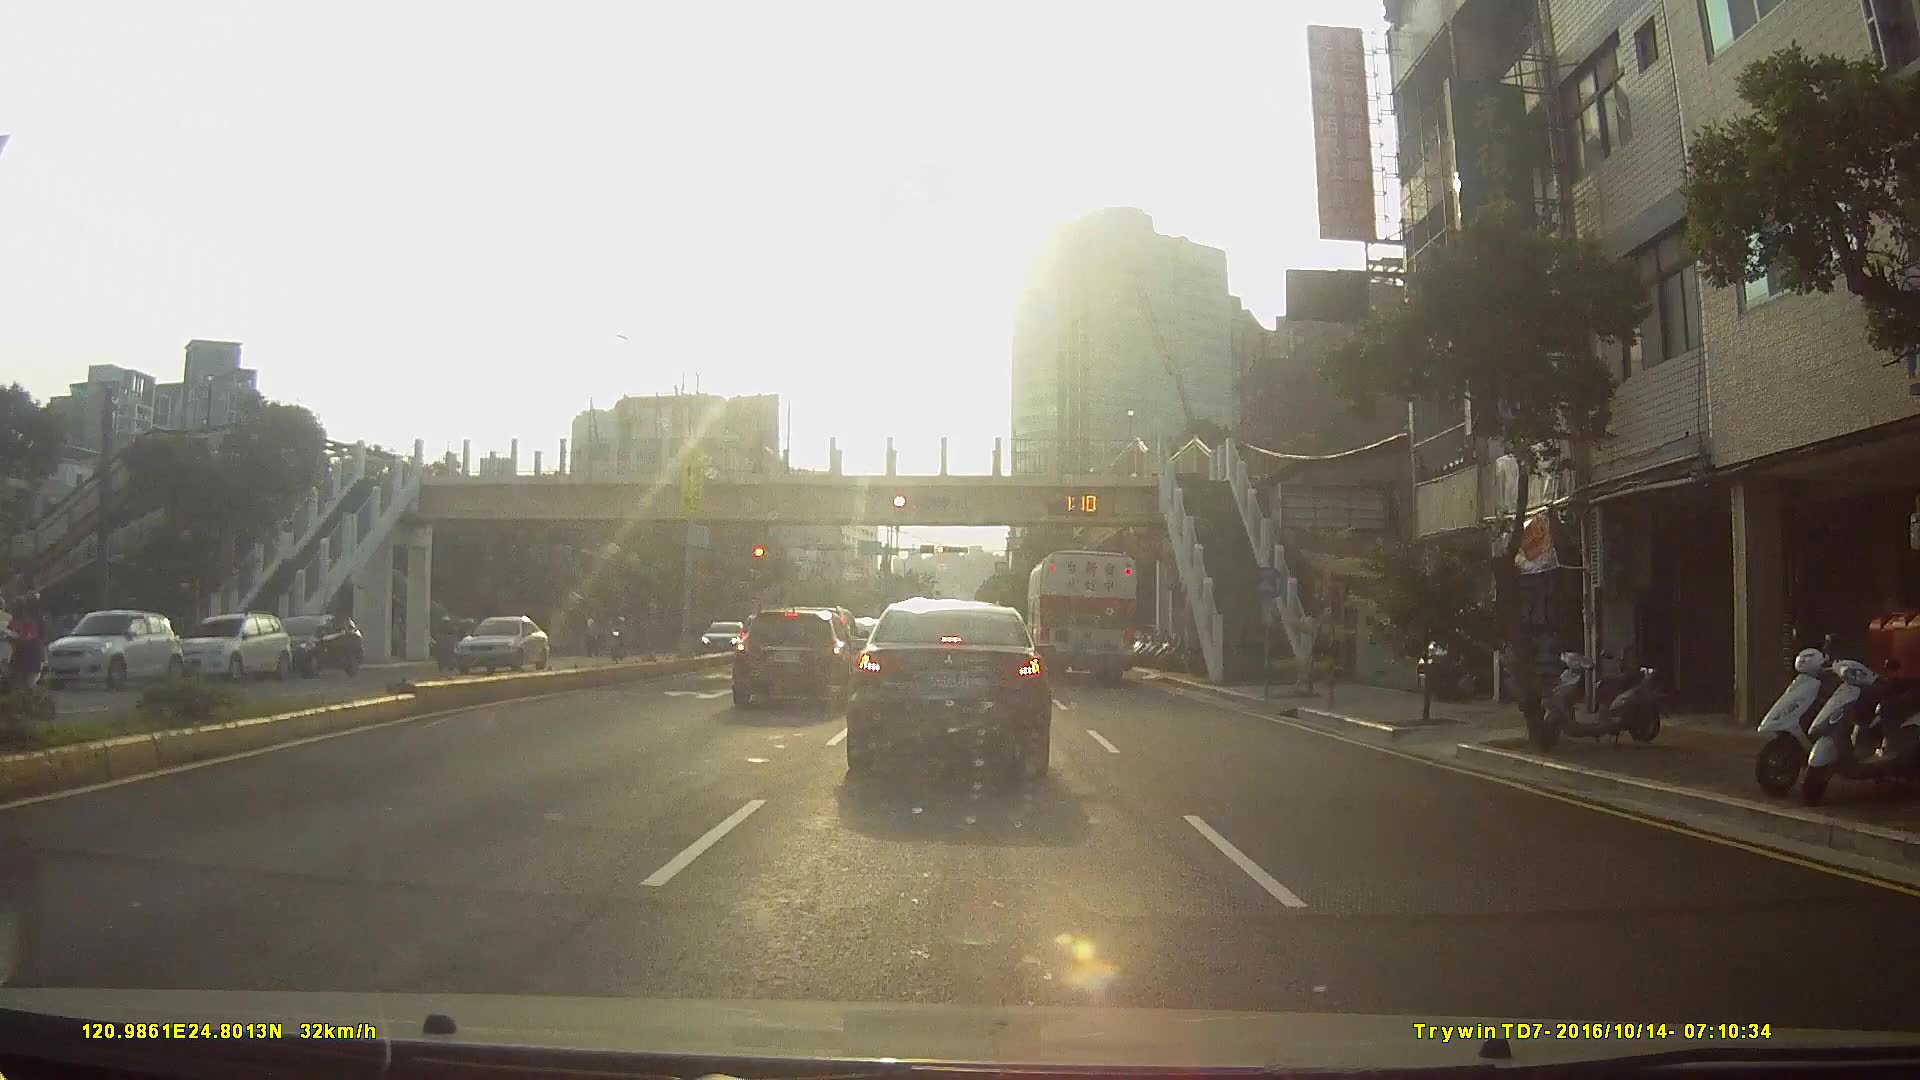rider: (1, 587, 62, 712)
vehicle: (843, 596, 1055, 779), (1026, 546, 1140, 683), (727, 600, 861, 706), (38, 607, 177, 687), (167, 609, 289, 678), (443, 610, 543, 671), (268, 612, 362, 674), (696, 620, 743, 656)
